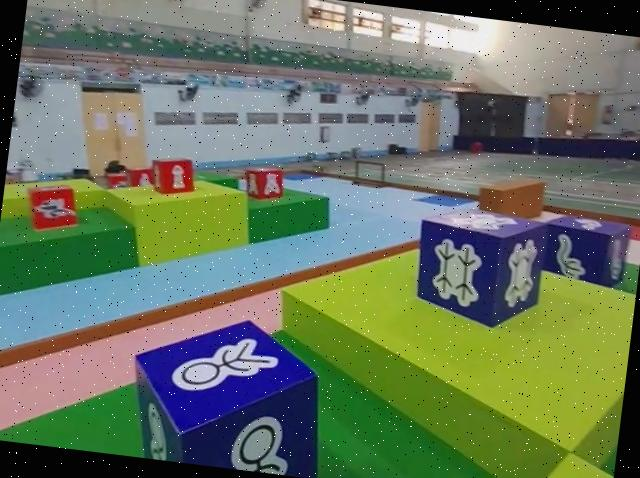R2 Real Blue: (126, 306, 336, 478), (409, 205, 551, 337), (530, 215, 631, 295)
